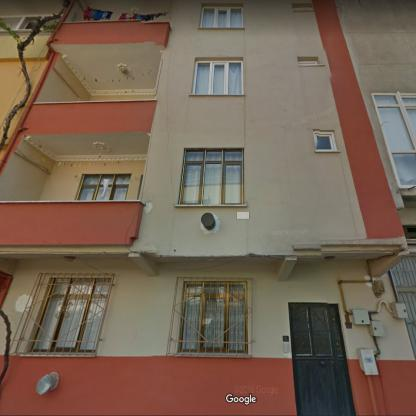door: (289, 304, 355, 414), (391, 256, 415, 354)
window: (30, 279, 110, 351), (180, 282, 246, 352), (372, 94, 416, 188), (180, 150, 243, 204), (192, 60, 244, 94), (76, 176, 130, 200), (200, 7, 243, 27), (2, 16, 38, 31), (315, 132, 336, 151), (299, 61, 317, 64)
